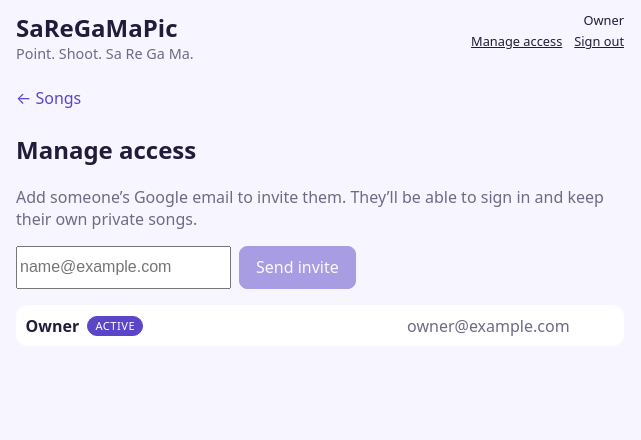
Test: AdminPage / access management (finding #18) › lists existing users and invites a new email
Check: the text "Active" is shown, box [87,316,143,336]
Type "friend@example.com" into the field named "Email to invite" at (124, 267), box [16,246,231,289]
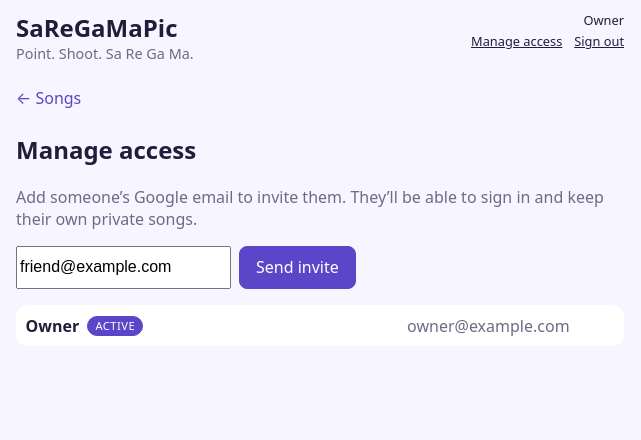
Click the button "Send invite" at (297, 267), box [239,246,356,289]
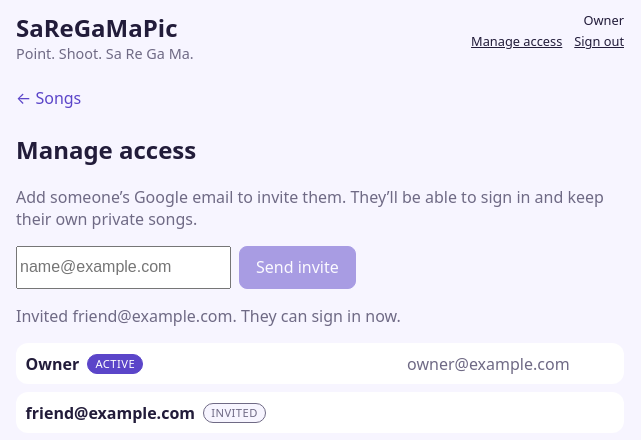
Check: the text "Invited friend@example.com. They can sign in now." is shown, box [16,305,401,327]
Check: the text "Invited" is shown, box [203,403,266,423]
